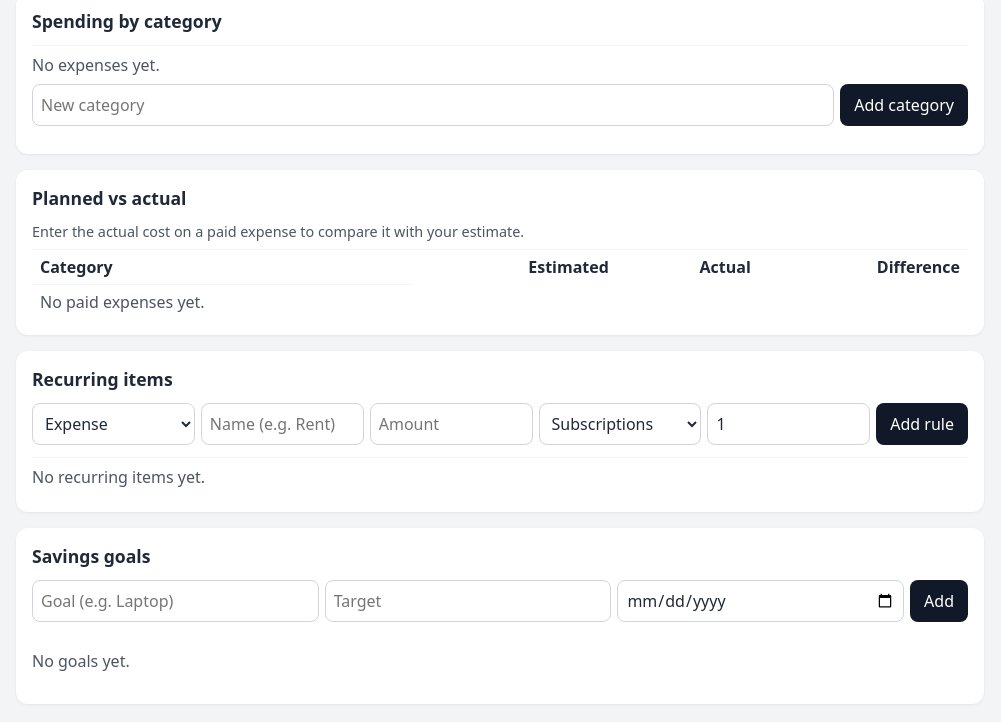
Test case: App › shows overdue status for a goal past its deadline
(page scrolled)
Type "Laptop" into the field named "Goal name".
click(175, 601); type("Laptop")  # box 32,580 -> 319,622
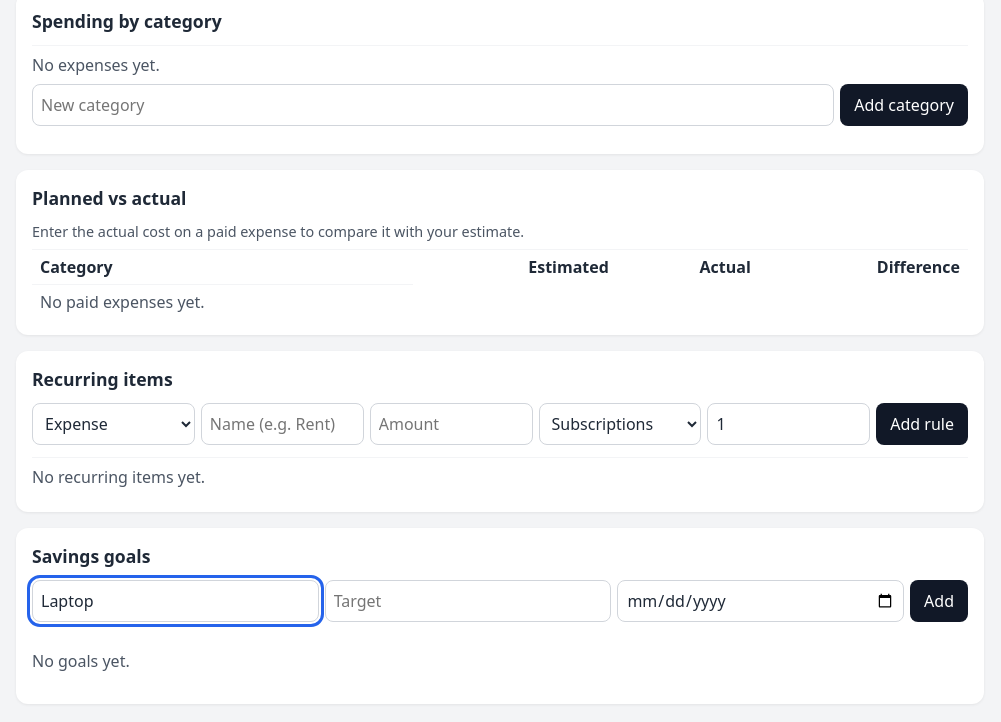
Type "800000" into the number field named "Goal target".
click(468, 601); type("800000")  # box 325,580 -> 611,622
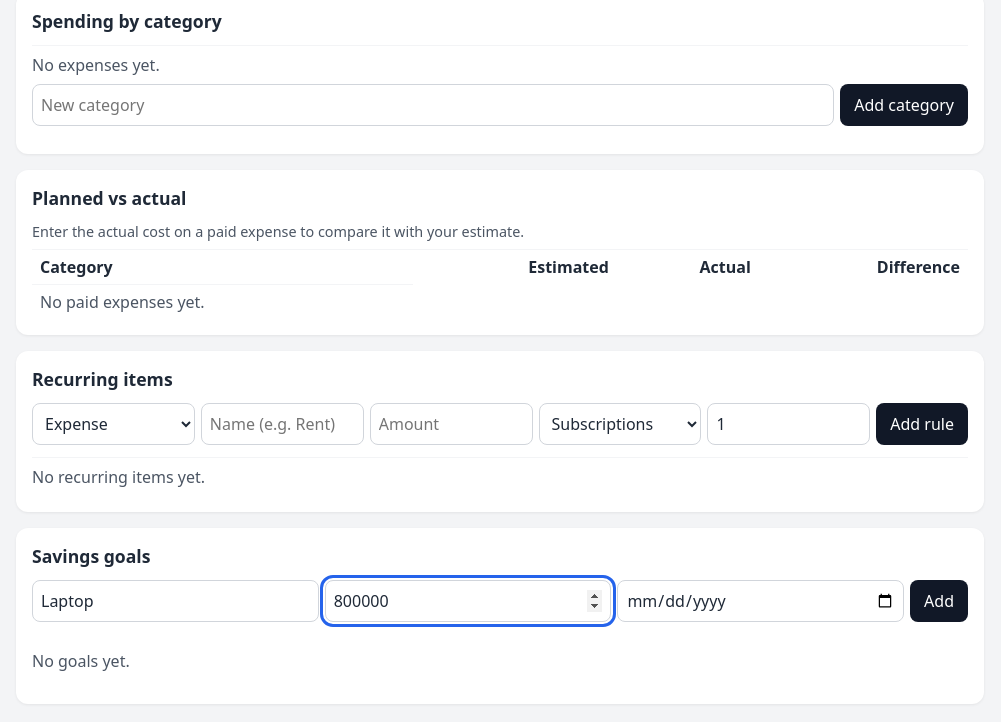
Type "2000-01-15" into the date field named "Goal deadline".
click(761, 601); type("2000-01-15")  # box 617,580 -> 904,622
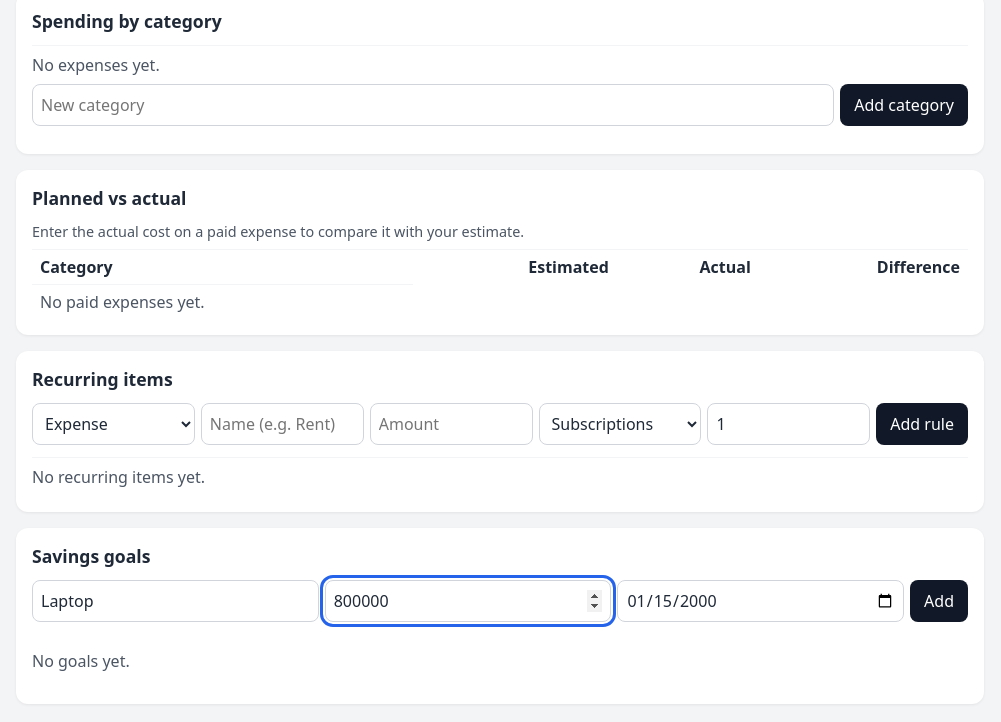
Click the button "Add".
click(939, 601)  # box 910,580 -> 968,622
(page scrolled)
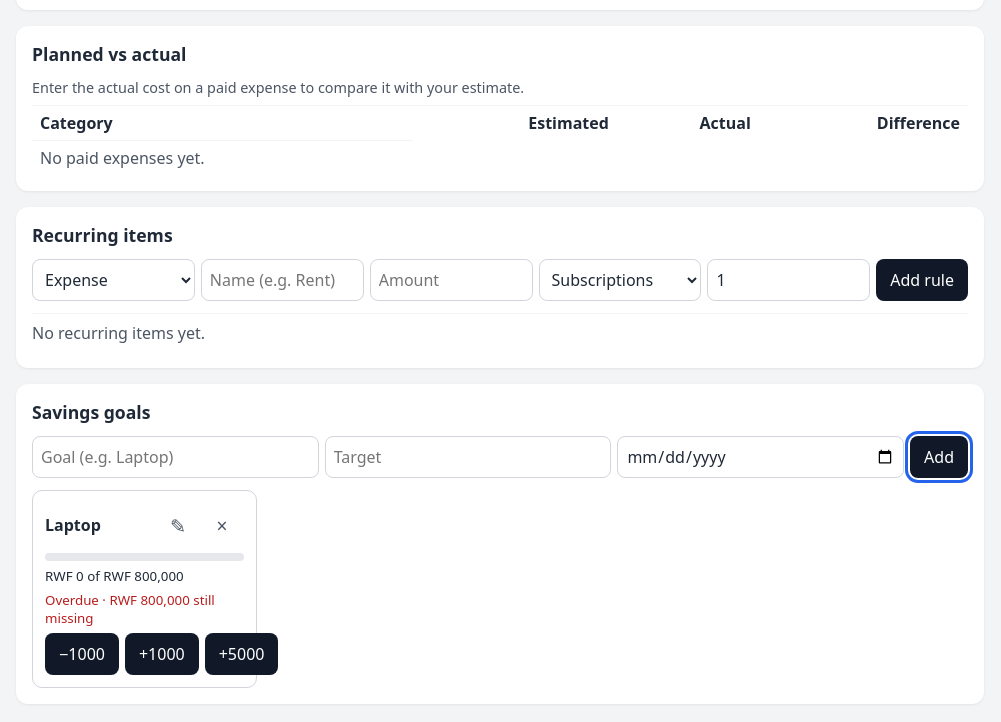
Check: the text "Overdue · RWF 800,000 still missing" is shown, box 45,591 -> 244,627
